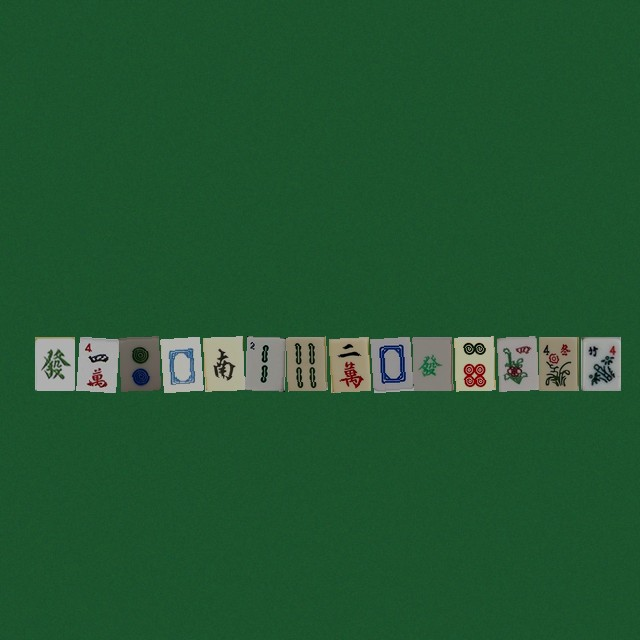tile: (34, 336, 74, 390), (76, 336, 116, 390), (118, 336, 158, 390), (160, 336, 200, 390), (202, 336, 242, 390), (244, 336, 284, 390), (286, 336, 326, 390), (328, 336, 368, 390), (370, 336, 410, 390), (412, 336, 452, 390), (454, 336, 494, 390), (496, 336, 536, 390), (538, 336, 578, 390), (580, 336, 620, 390)
